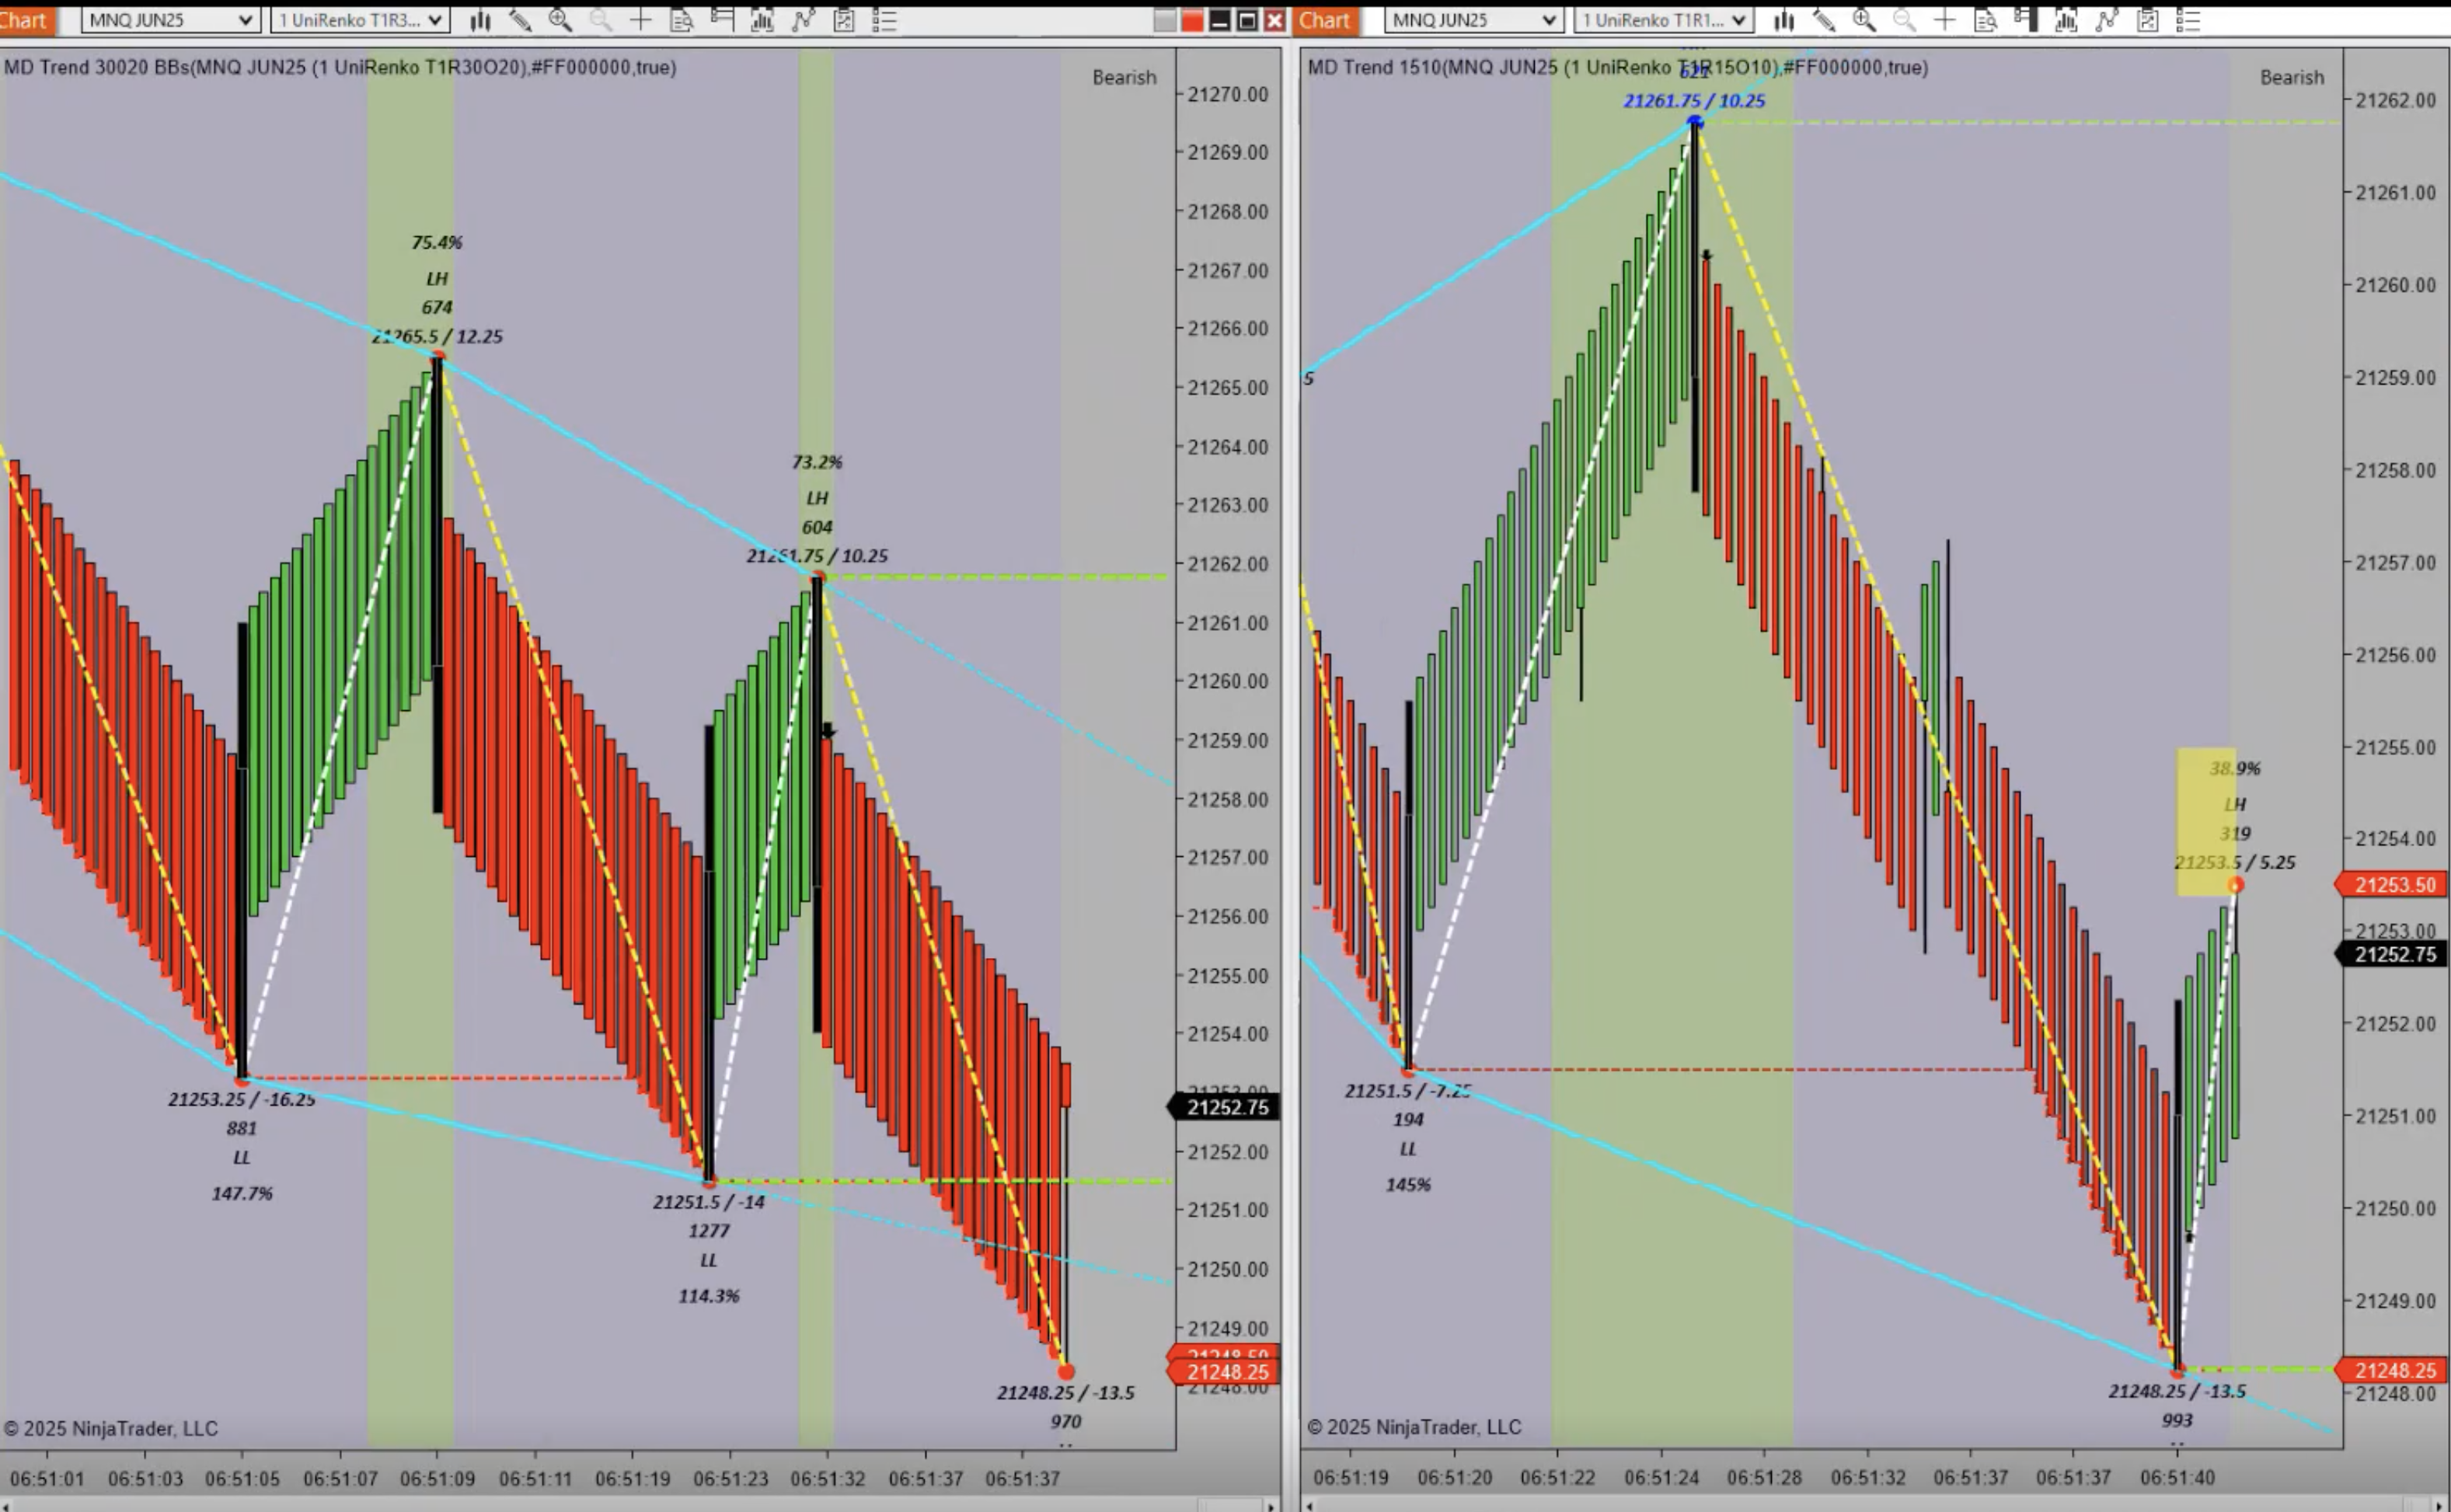candle: (236, 619, 256, 1078), (1688, 117, 1710, 504), (431, 352, 448, 826), (812, 574, 828, 1047), (1402, 696, 1420, 1074), (704, 721, 718, 1187), (2174, 998, 2188, 1369)
